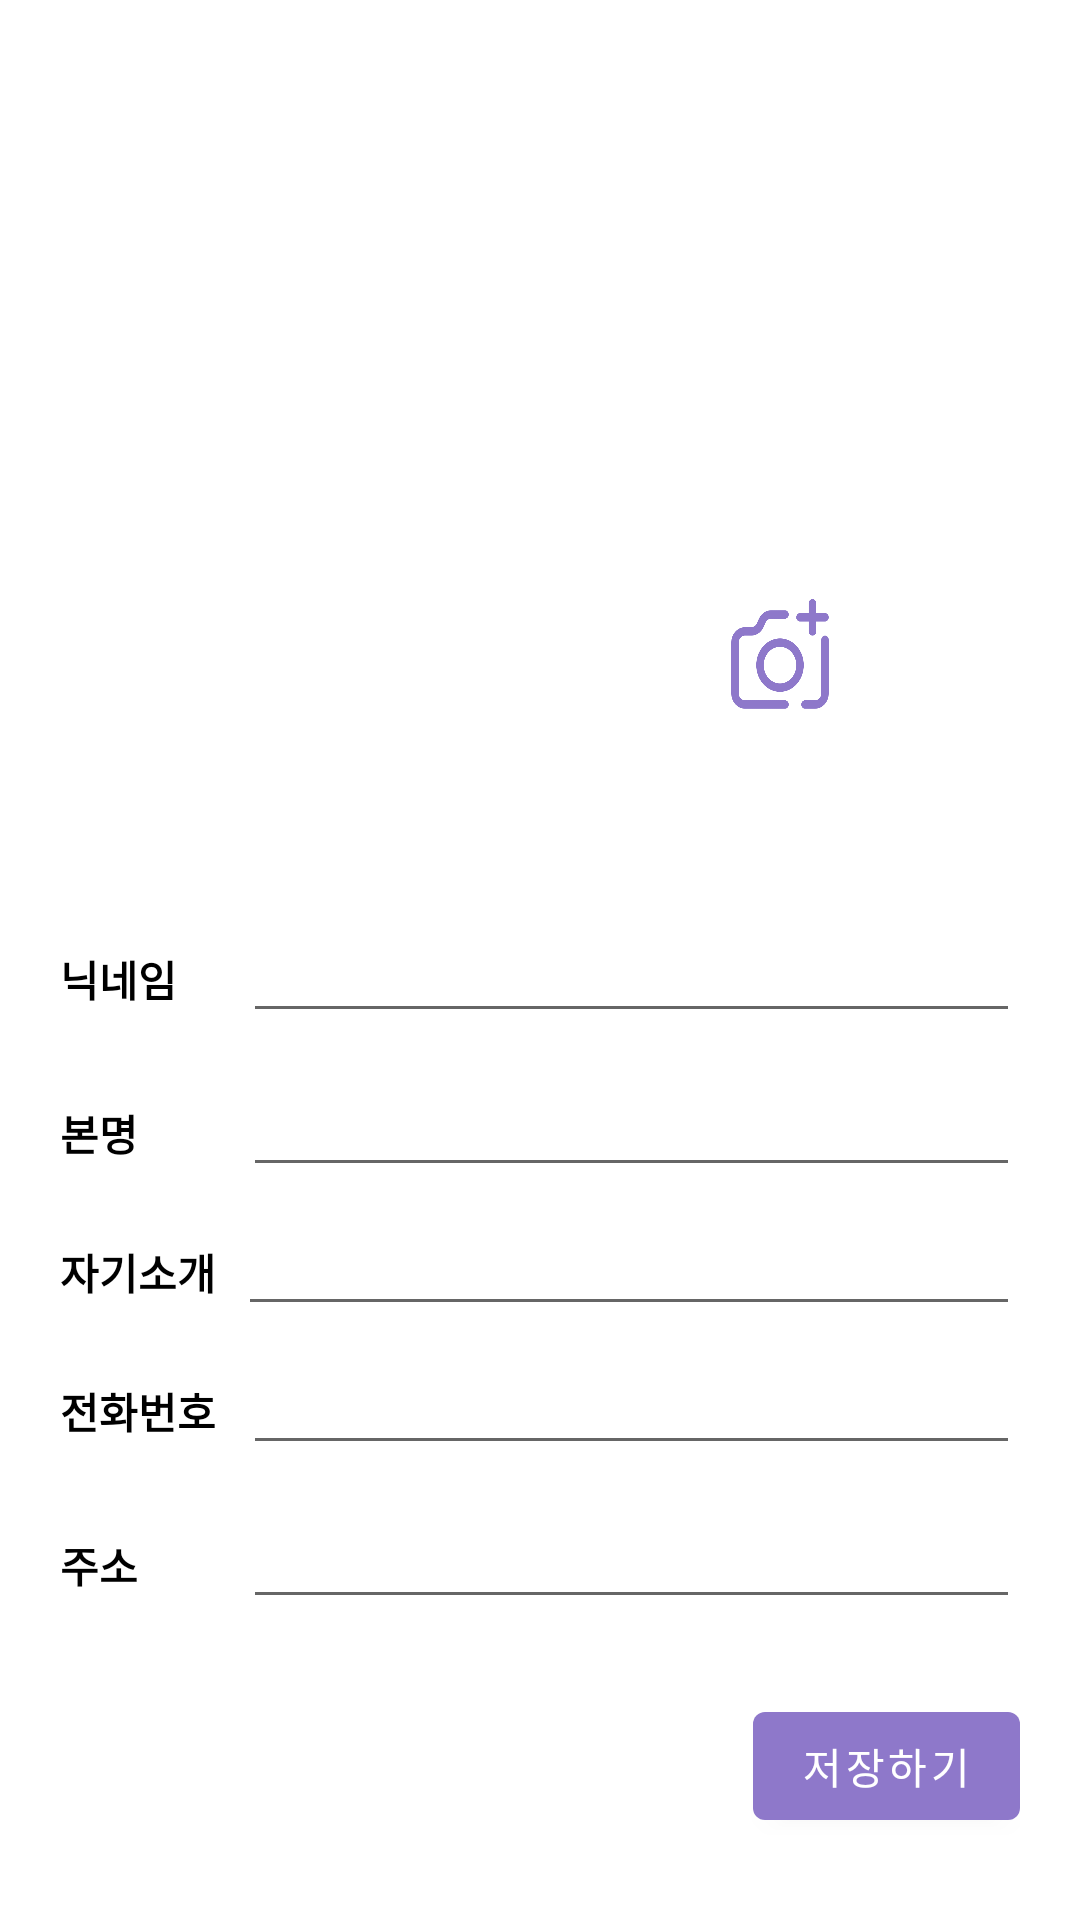

Named icons in this screenshot (1080*1920) and their bounding boxes, (x1, y1, x2, y2):
profilechange: (731, 599, 829, 709)
